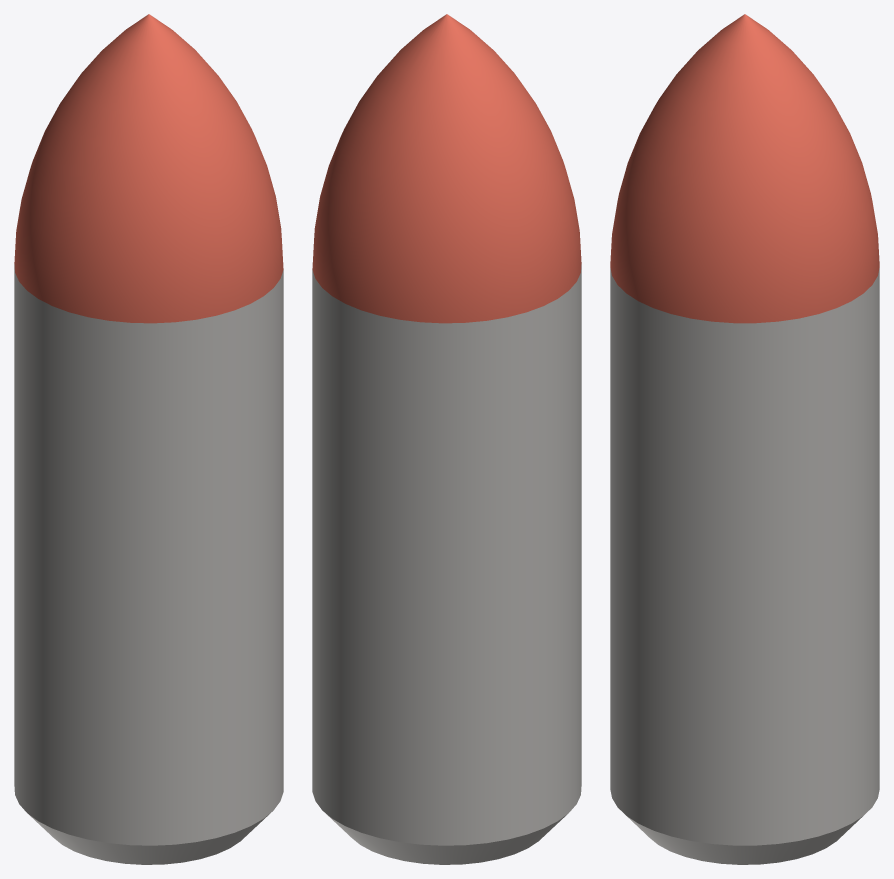
File: missile.fbx
The picture shows the model from 3 angles, left to right: view 1: azimuth 30°, elevation 25°; view 2: azimuth 150°, elevation 25°; view 3: azimuth 270°, elevation 25°; orthographic projection.
Visible parts, largest first — view 1: ボディ1; view 2: ボディ1; view 3: ボディ1.
Boxes of the visible parts, x1,y1,x2,y2 form: ボディ1: [14, 14, 283, 864]; ボディ1: [312, 14, 581, 864]; ボディ1: [610, 14, 879, 864].
Bounding box in the file's own units: 4.54 × 15.06 × 4.56.
